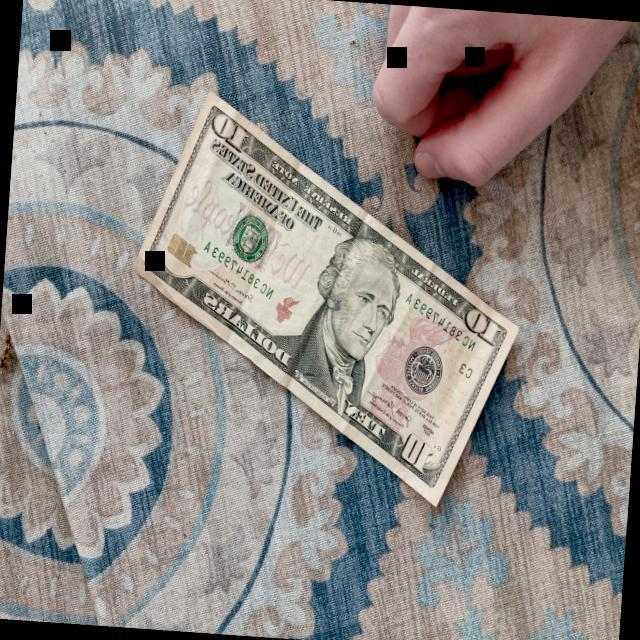ten: (129, 89, 519, 504)
